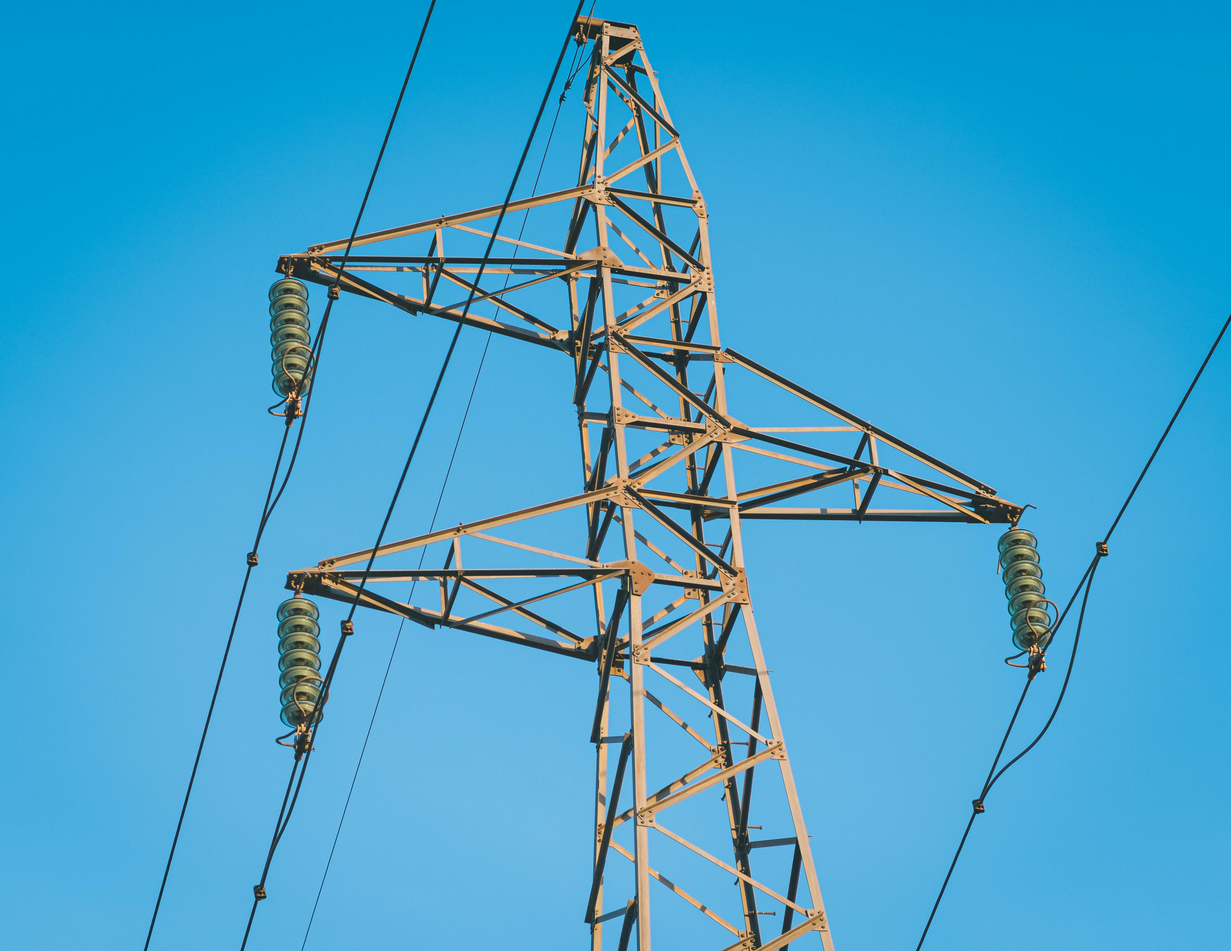insulator: (986, 525, 1066, 656), (270, 587, 334, 733), (256, 273, 317, 403)
